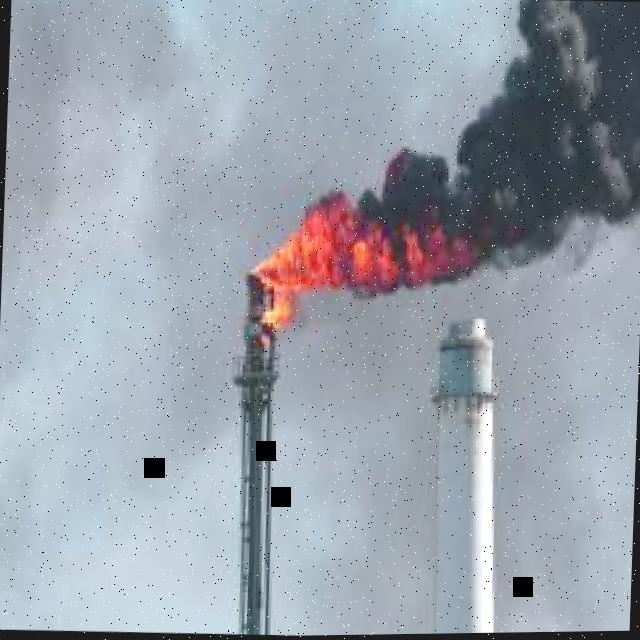fire: (252, 187, 478, 301), (261, 290, 300, 343)
smoke: (126, 0, 523, 496), (270, 218, 640, 636), (352, 1, 640, 300), (1, 0, 223, 275)
